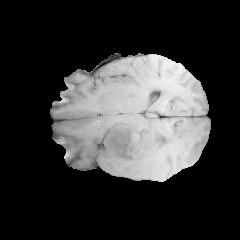glioma: (102, 125, 168, 167)
